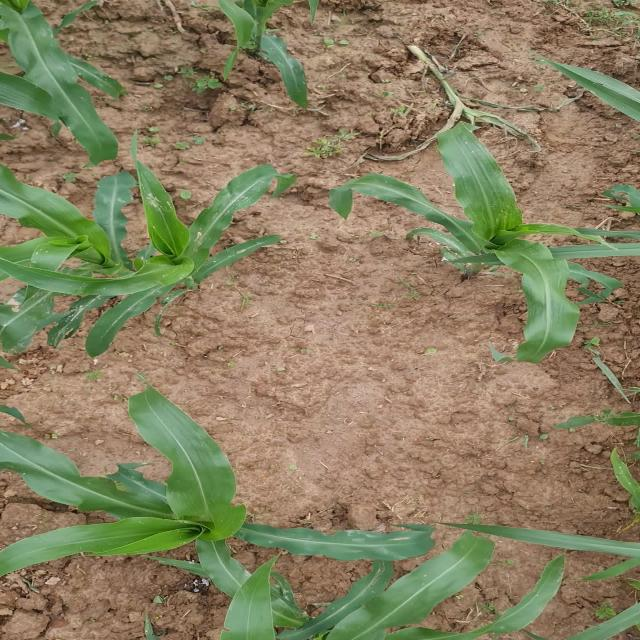maize: (21, 415, 317, 627), (317, 451, 640, 640), (382, 142, 640, 338), (0, 166, 276, 346), (0, 0, 163, 153), (202, 0, 294, 125), (409, 45, 515, 135)
